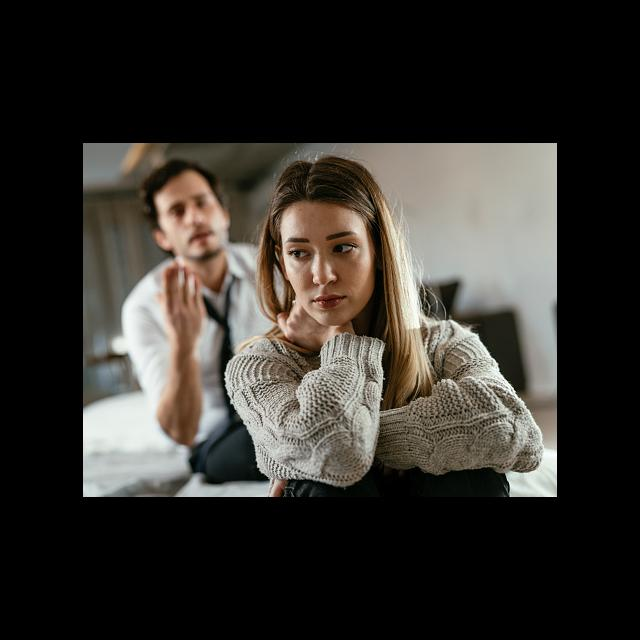female: (258, 154, 389, 323), (266, 150, 312, 168)
male: (125, 161, 238, 265)
